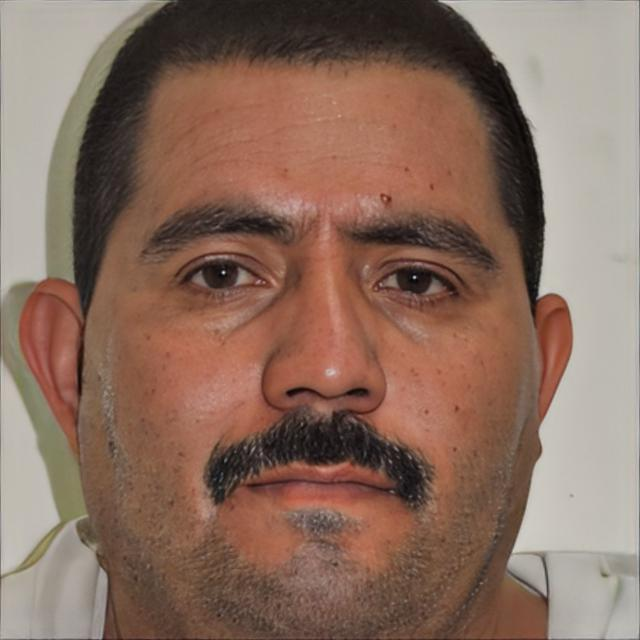sad: (79, 53, 544, 632)
